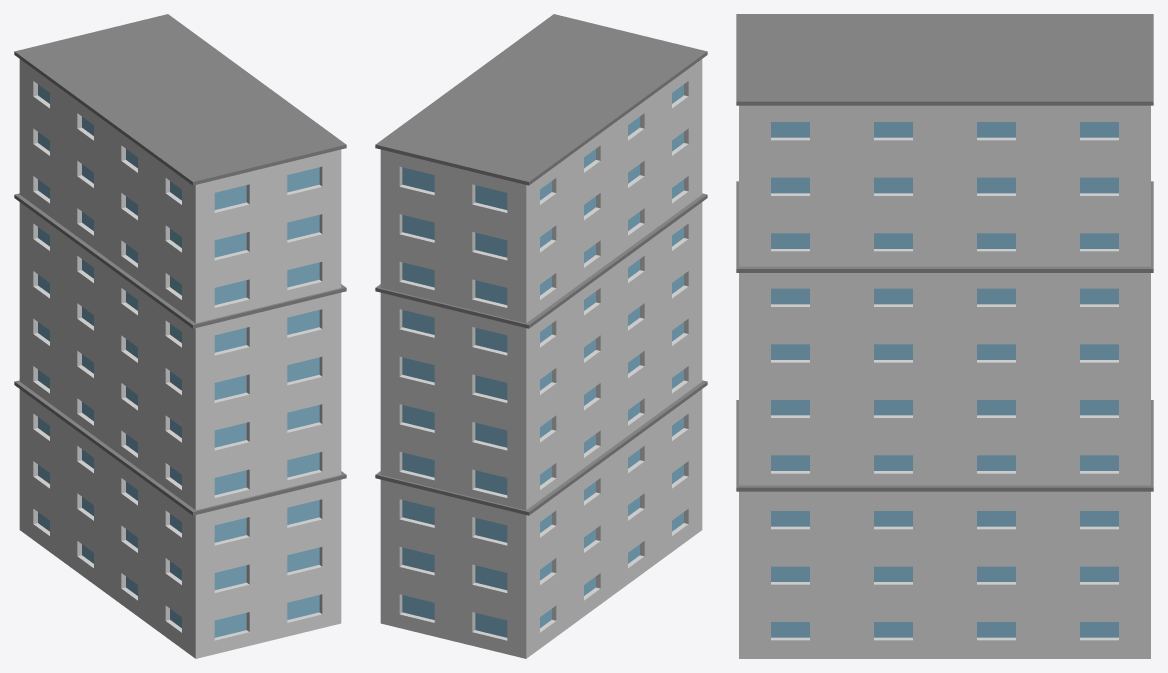
The model's file is building2.glb.
The picture shows the model from 3 angles, left to right: view 1: azimuth 30°, elevation 25°; view 2: azimuth 150°, elevation 25°; view 3: azimuth 270°, elevation 25°; orthographic projection. The views are drawn at different scales.
Visible parts, largest first — view 1: Cube; view 2: Cube; view 3: Cube.
Part boxes in pixels (<box>): Cube: <box>14,14,346,658</box>; Cube: <box>375,14,707,658</box>; Cube: <box>736,14,1153,658</box>.
Size of the model in its own units: 2.11 by 6.29 by 4.25.
Materials: 1 (1 with a texture image).
